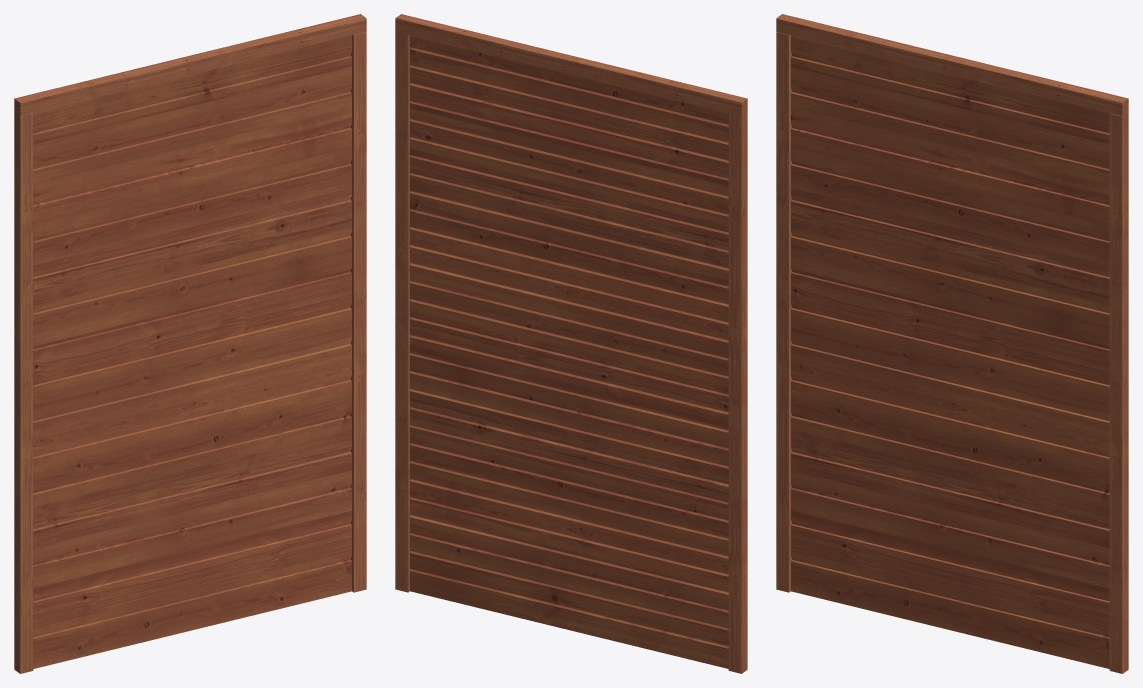
Rendered from 5ftx7.875ft.obj.
3 views of the same model, side by side, from view 1: azimuth 30°, elevation 25°; view 2: azimuth 150°, elevation 25°; view 3: azimuth 330°, elevation 25° (orthographic).
Visible parts, largest first — view 1: wall_planks, trim_left, trim_right, trim_top; view 2: wall_planks, trim_left, trim_right, trim_top; view 3: wall_planks, trim_right, trim_left, trim_top.
Boxes of the visible parts, x1,y1,x2,y2 form: wall_planks: (33,35,351,668); trim_left: (14,112,33,673); trim_right: (351,32,366,592); trim_top: (14,14,366,116); wall_planks: (410,35,728,668); trim_left: (728,112,747,673); trim_right: (395,32,410,592); trim_top: (395,14,747,116); wall_planks: (791,35,1109,668); trim_right: (1109,112,1128,673); trim_left: (776,32,791,592); trim_top: (776,14,1128,116).
Size of the model in its own units: 60 by 94.5 by 1.82.
